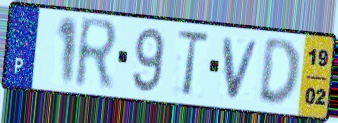1: (54, 16, 77, 89)
9: (130, 26, 167, 95)
D: (256, 37, 302, 110)
R: (72, 15, 121, 94)
T: (175, 29, 211, 99)
V: (220, 36, 263, 102)
